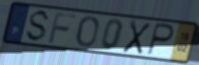0: (100, 17, 125, 52)
F: (47, 12, 78, 45)
O: (75, 15, 100, 48)
P: (145, 21, 176, 58)
S: (24, 9, 52, 44)
X: (121, 18, 153, 56)
